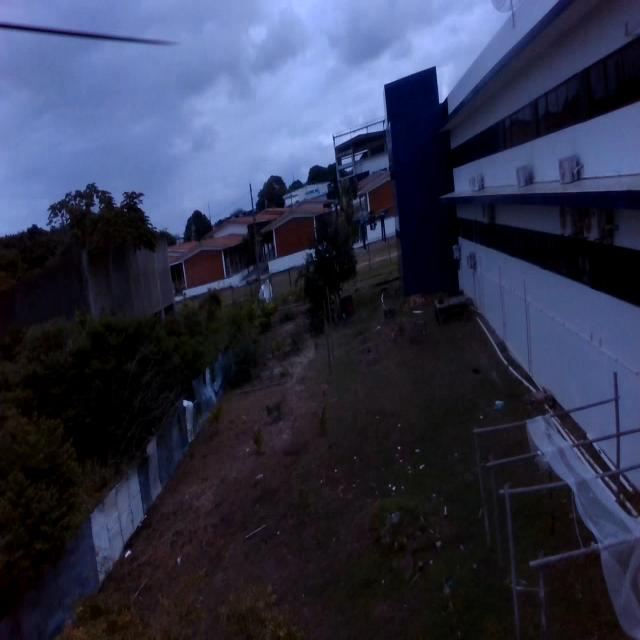-uav-: (356, 206, 392, 259)
